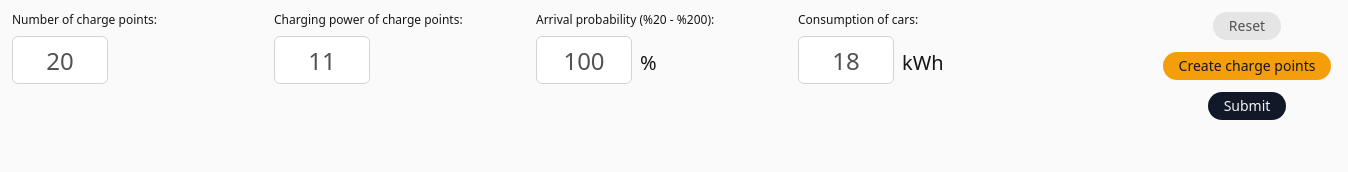
it: <Form /> › resets form to initial values
This screenshot has width=1348, height=172.
Replace the text in the number field labelled "Number of charge points:" with "30" at [60, 60], box [12,36,108,84]
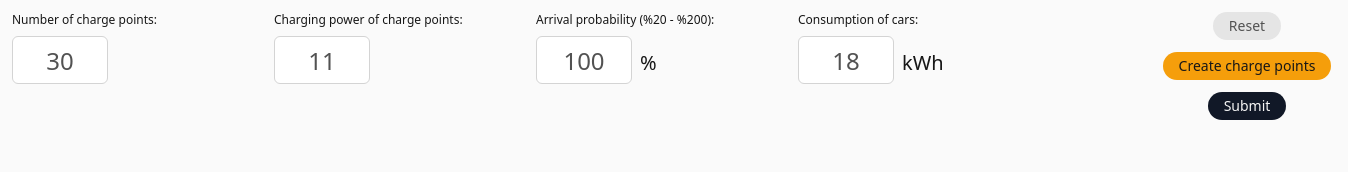
Click the button "Reset".
click(1247, 26)  # box [1213,12,1281,40]
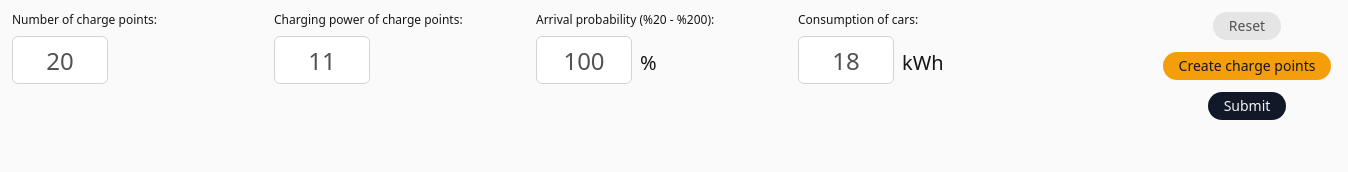
Now the number field labelled "Number of charge points:" holds "20", box [12,36,108,84]
